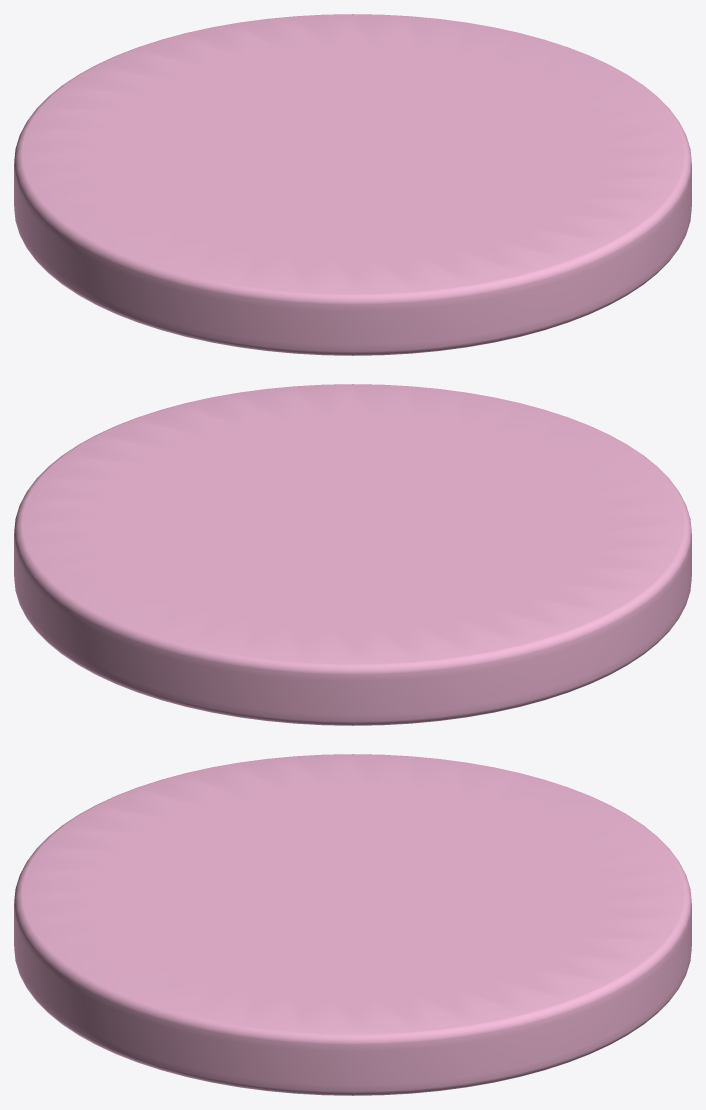
File: round_platform3.glb
3 renders of one model, top to bottom at view 1: azimuth 30°, elevation 25°; view 2: azimuth 150°, elevation 25°; view 3: azimuth 270°, elevation 25°, orthographic.
Bounding box in the file's own units: 0.9962 × 0.1 × 0.9962.
